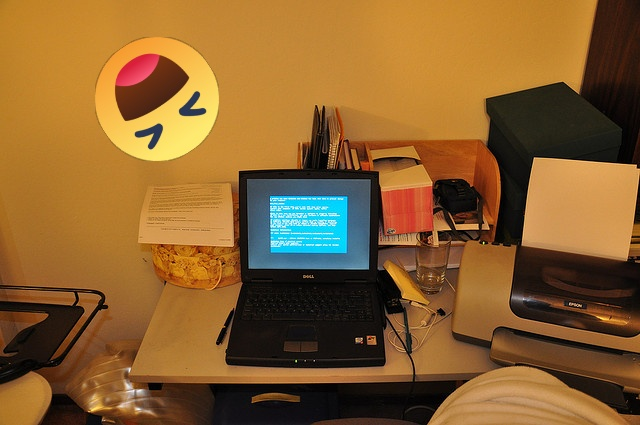haha: (95, 37, 219, 161)
